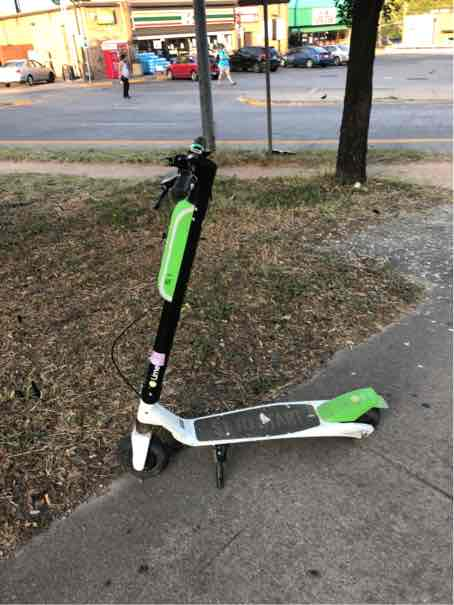scooter: (114, 130, 392, 482)
